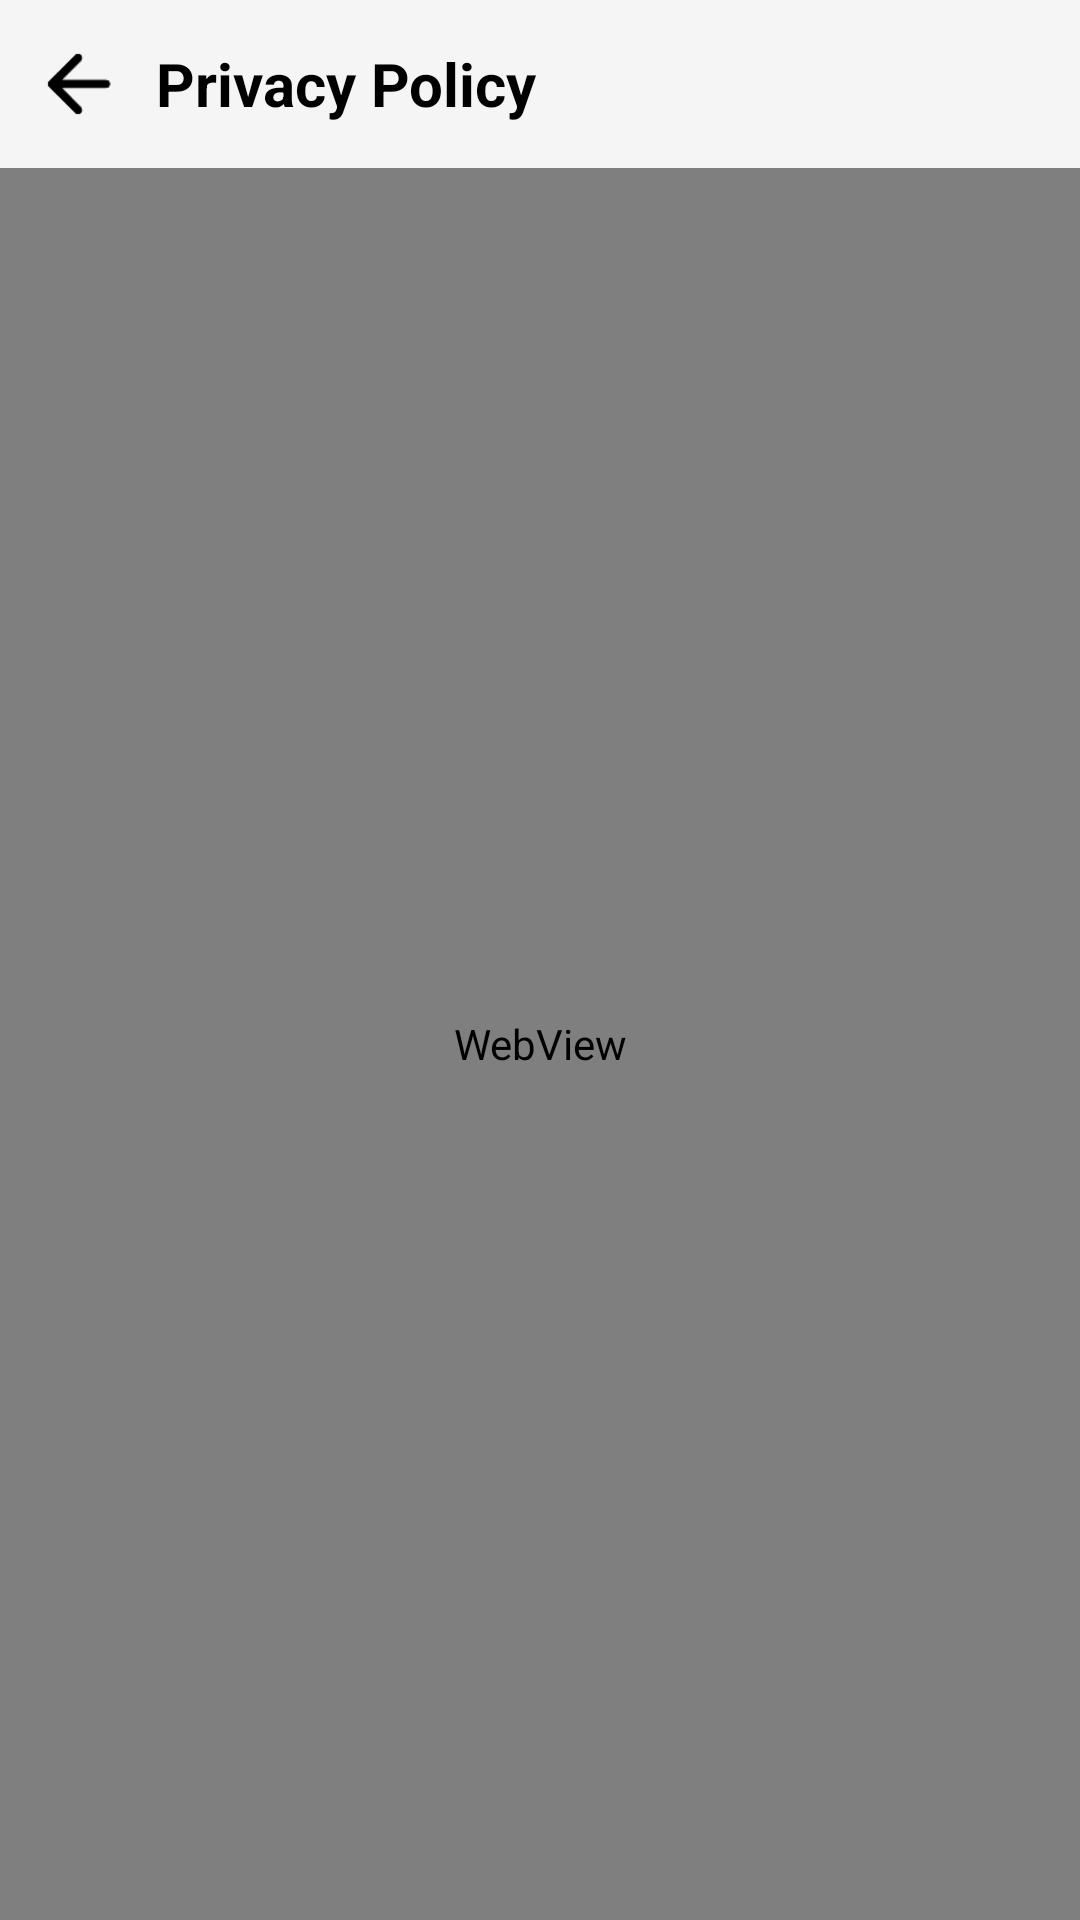

Icon bounding boxes for this 1080w x 1920h phone screenshot, format bbox(x1, y1, x2, y2):
arrow back: bbox(47, 54, 111, 115)
